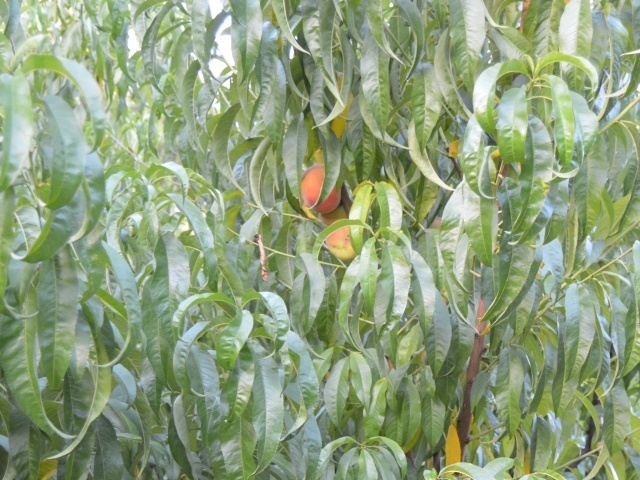peach: (296, 160, 344, 221), (322, 221, 365, 267)
